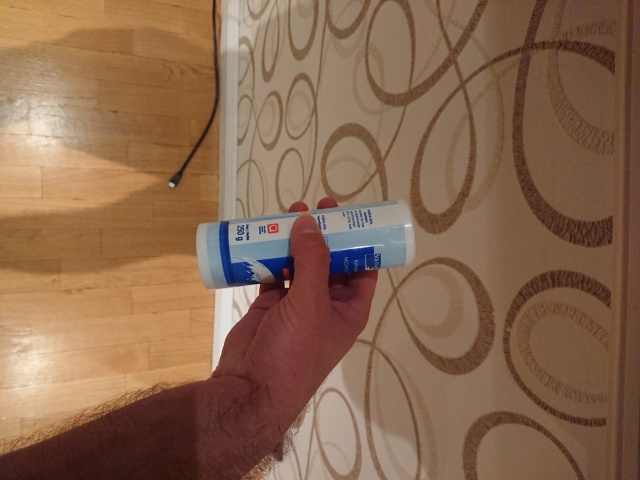Solana Pag Fine Sea Salt 250g: (193, 194, 420, 294)
